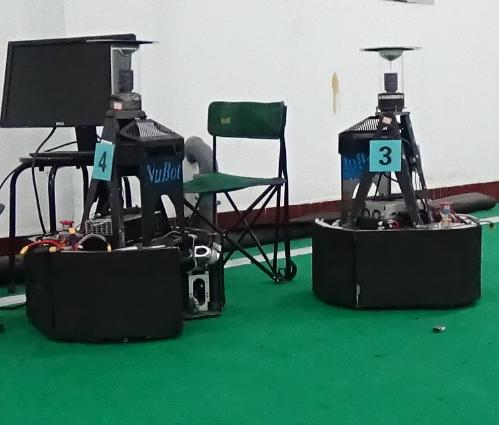robot: (19, 39, 231, 343), (308, 44, 487, 315)
